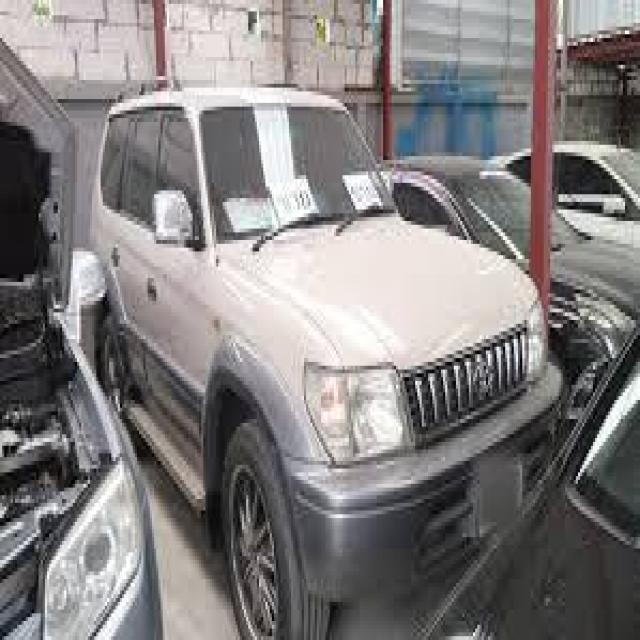back_right_door: (110, 108, 162, 386)
front_bumper: (279, 320, 569, 607)
front_glass: (198, 105, 397, 242)
front_left_light: (527, 294, 550, 387)
front_right_door: (146, 111, 211, 449)
front_right_light: (305, 356, 416, 467)
hood: (223, 211, 540, 374)
right_mirror: (148, 187, 196, 247)
wheel: (221, 418, 332, 636)
